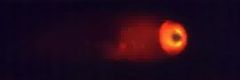keyhole: (171, 31, 184, 42)
